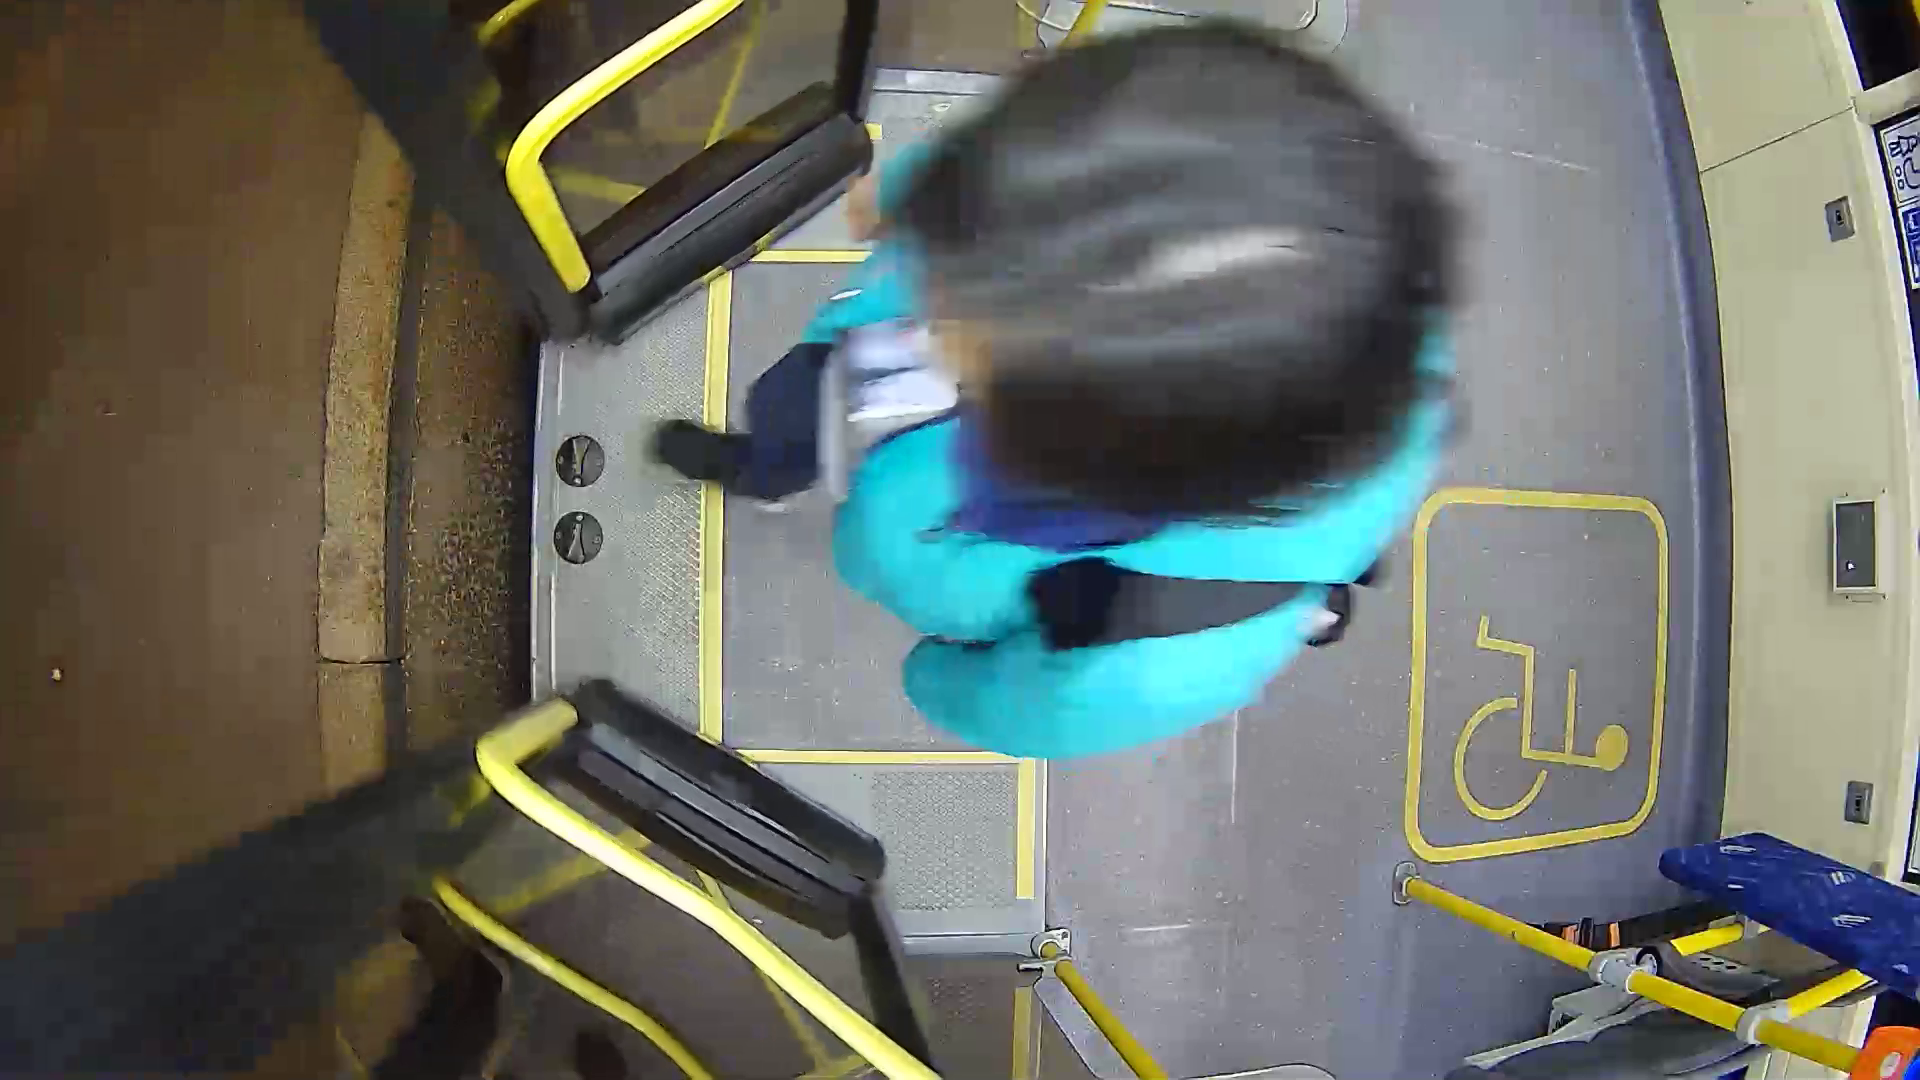person: (784, 77, 1592, 849)
